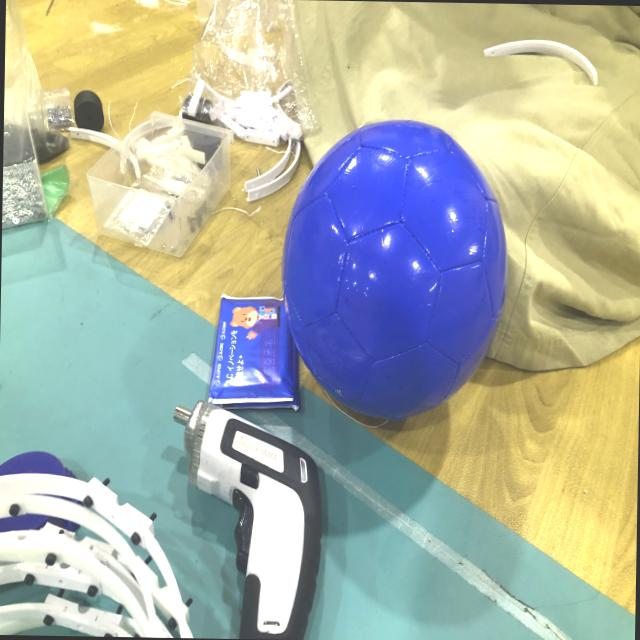blue_ball: (278, 114, 505, 418)
